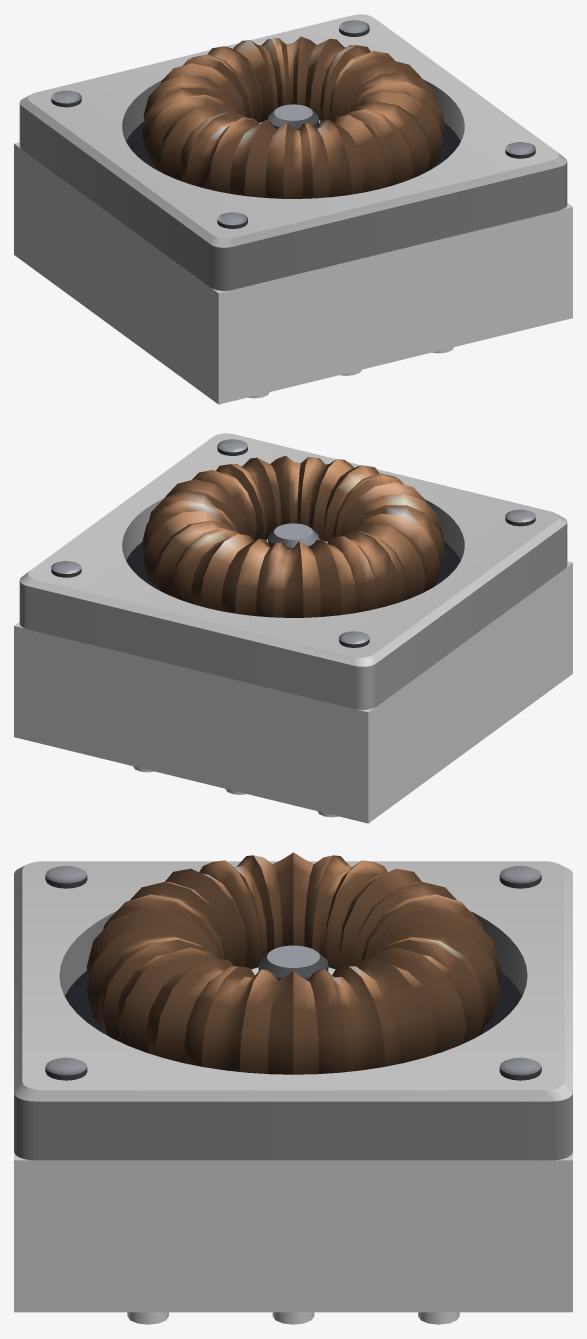
Rendered from part_coil.glb.
3 views of the same model, one above another, from view 1: azimuth 30°, elevation 25°; view 2: azimuth 150°, elevation 25°; view 3: azimuth 270°, elevation 25° (orthographic). The views are drawn at different scales.
Visible parts, largest first — view 1: Gehaeuse, Plattform, Korpus; view 2: Gehaeuse, Plattform, Korpus; view 3: Plattform, Gehaeuse, Korpus, Stecker.
Part boxes in pixels (x1,y1,x2,y2): Gehaeuse: (14, 142, 572, 404); Plattform: (19, 14, 567, 290); Korpus: (51, 20, 535, 228); Gehaeuse: (14, 561, 572, 823); Plattform: (19, 433, 567, 709); Korpus: (51, 439, 535, 647); Plattform: (14, 861, 572, 1160); Gehaeuse: (14, 1152, 572, 1312); Korpus: (45, 852, 541, 1080); Stecker: (127, 1312, 459, 1324).
Bounding box in the file's own units: 0.8 × 0.5315 × 0.8.
